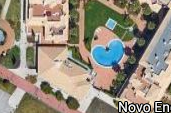pool: (93, 43, 121, 63)
